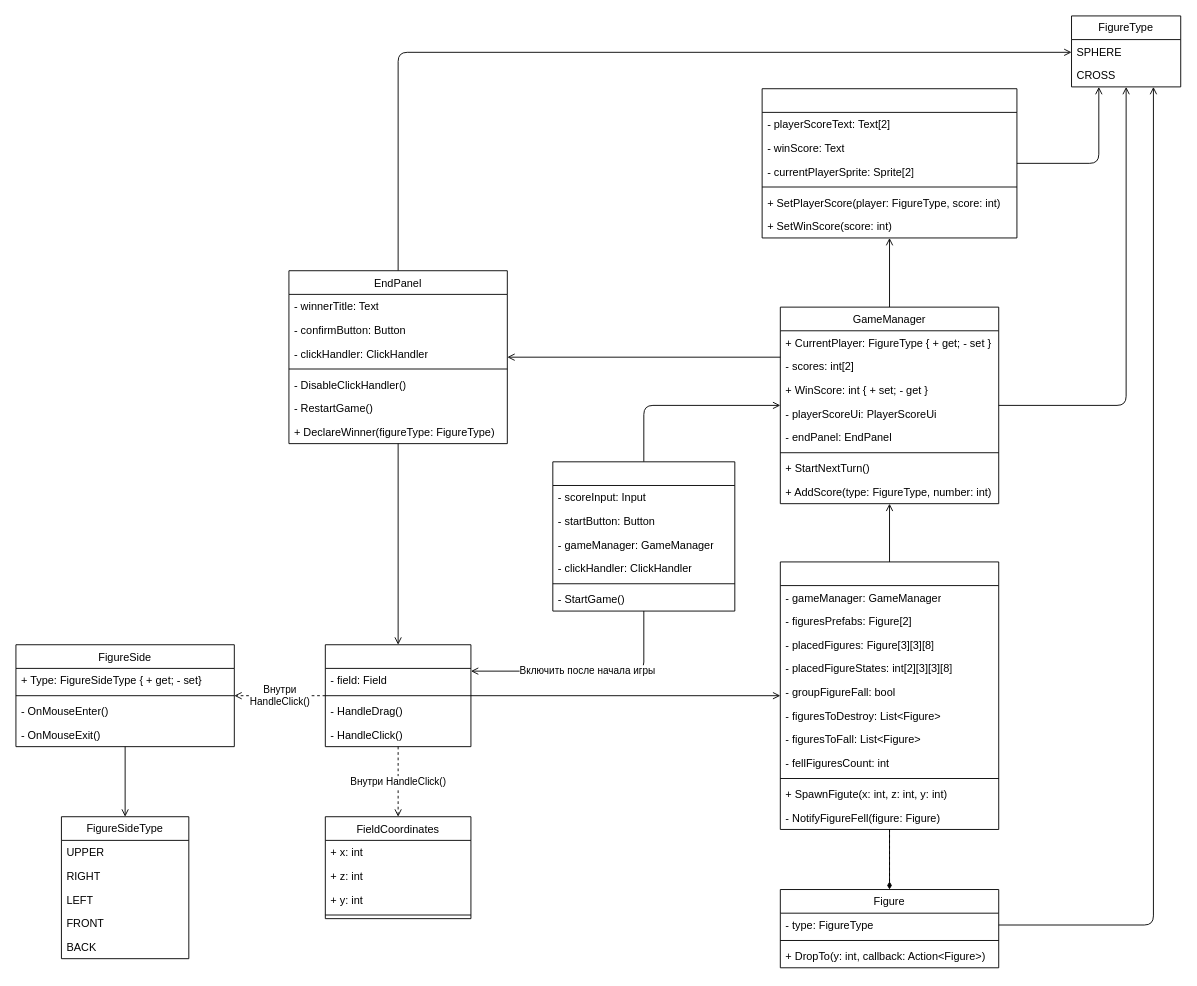
The diagram is 1197 pixels wide and 986 high, and some of its shapes have lost their labels. The shapes that lost their labels are listed below. From the top down, each one's box as (x1, y1, x2, y2) in pixels, then its label:
(761, 88, 1017, 238): PlayerScoreUi
(552, 461, 735, 611): StartPanel
(324, 644, 471, 747): ClickHandler
(779, 561, 999, 829): Field
